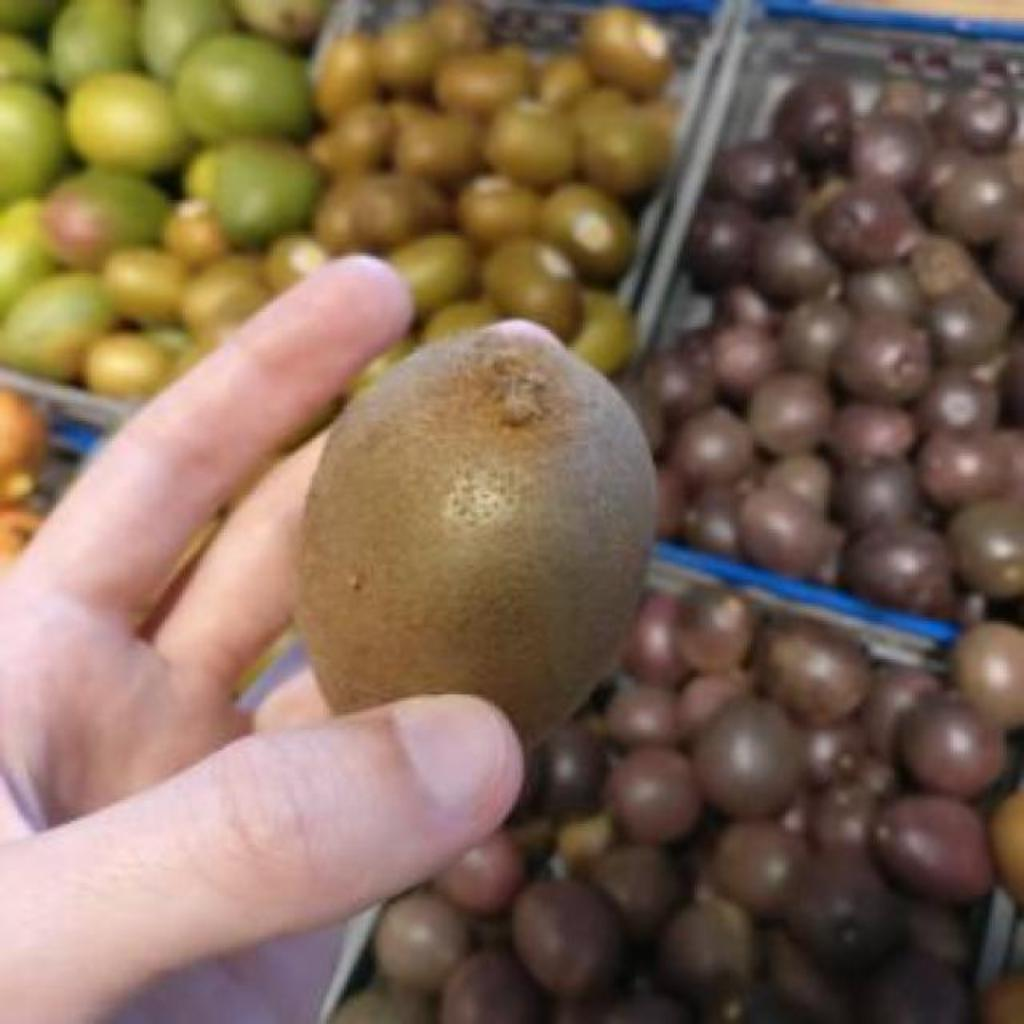kiwi: (300, 320, 656, 738), (482, 236, 582, 337), (314, 178, 452, 251), (540, 186, 632, 281), (484, 100, 576, 185), (582, 8, 670, 95), (184, 256, 270, 345), (390, 234, 474, 313), (434, 48, 530, 117), (102, 246, 186, 324), (310, 102, 396, 176), (582, 106, 652, 193), (396, 112, 478, 183), (568, 288, 634, 375), (458, 174, 540, 244), (88, 332, 170, 397), (316, 34, 378, 119), (374, 20, 442, 95), (162, 198, 228, 265), (264, 234, 328, 291), (538, 54, 592, 109), (422, 303, 494, 341), (572, 86, 626, 129)
